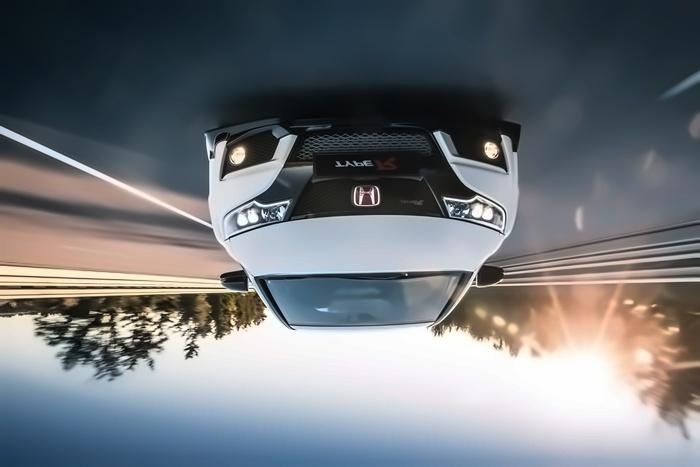Car hood: (225, 212, 506, 278)
Front bumper: (201, 114, 524, 180)
Headlight - -L-: (219, 196, 292, 240)
Headlight - -R-: (439, 193, 506, 237)
Side mirror - -L-: (218, 268, 254, 293)
Side mirror - -R-: (469, 262, 504, 290)
